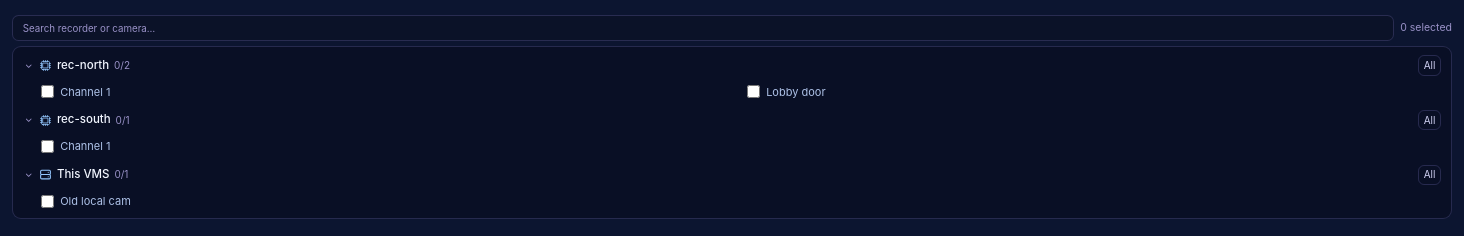
Test case: search › re-opens a collapsed group that a search matched
This screenshot has width=1464, height=236.
Click the button with aria-label "rec-north cameras". click: (83, 65)
box: [23,57,1413,74]
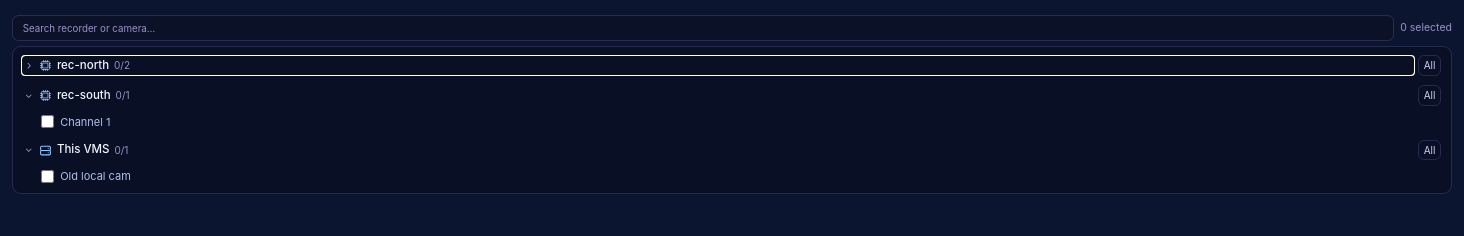
Check: the text "Lobby door" is gone
Type "lobby" into the field labelled "Search recorder or camera…". click: (703, 28)
box: [12,15,1394,41]
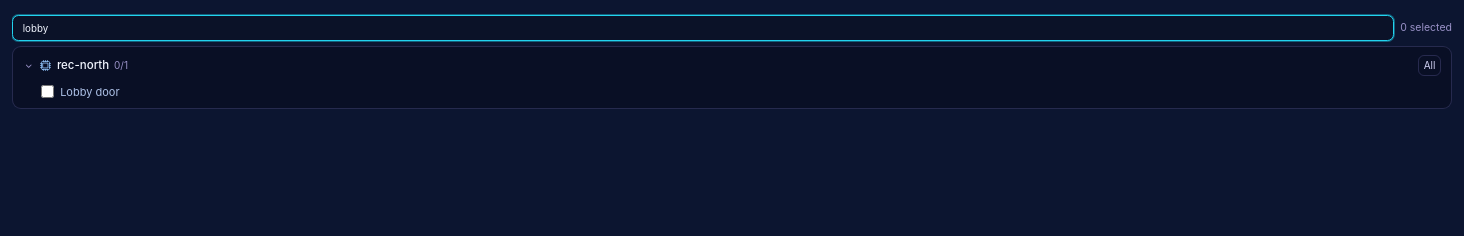
Check: the text "Lobby door" is shown, box [60,84,120,100]
